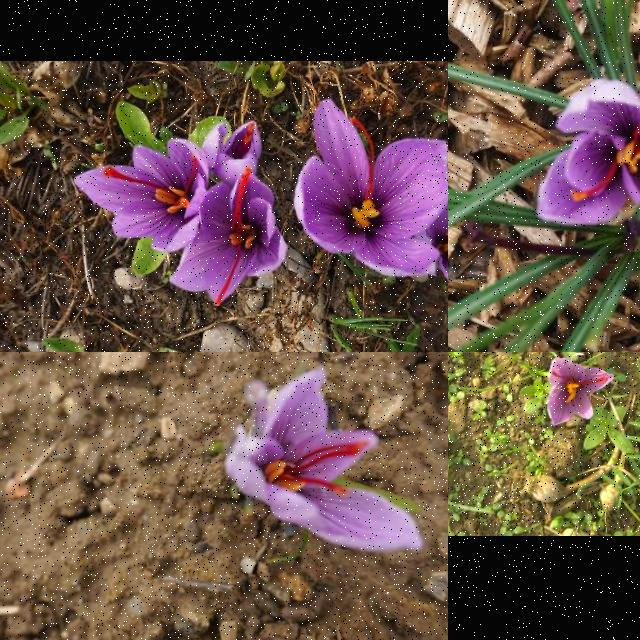flower: (228, 370, 422, 552), (293, 98, 448, 278), (168, 166, 288, 308), (74, 139, 210, 253), (538, 78, 640, 229), (414, 160, 448, 296), (548, 359, 612, 426), (201, 122, 263, 186)
